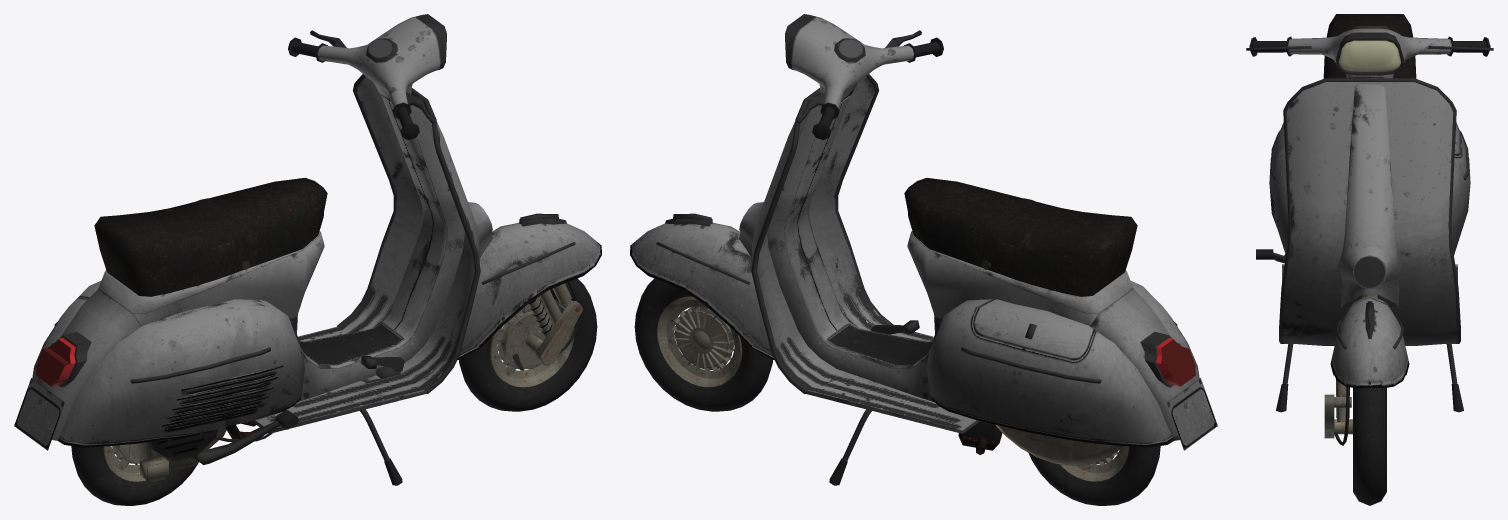
File: Scooter.fbx
The picture shows the model from 3 angles, left to right: view 1: azimuth 30°, elevation 25°; view 2: azimuth 150°, elevation 25°; view 3: azimuth 270°, elevation 25°; orthographic projection.
Visible parts, largest first — view 1: Mesh; view 2: Mesh; view 3: Mesh.
Part boxes in pixels (x1,y1,x2,y2): Mesh: (14,14,601,505); Mesh: (630,14,1217,505); Mesh: (1246,14,1493,505).
Size of the model in its own units: 203 by 140 by 75.84.
